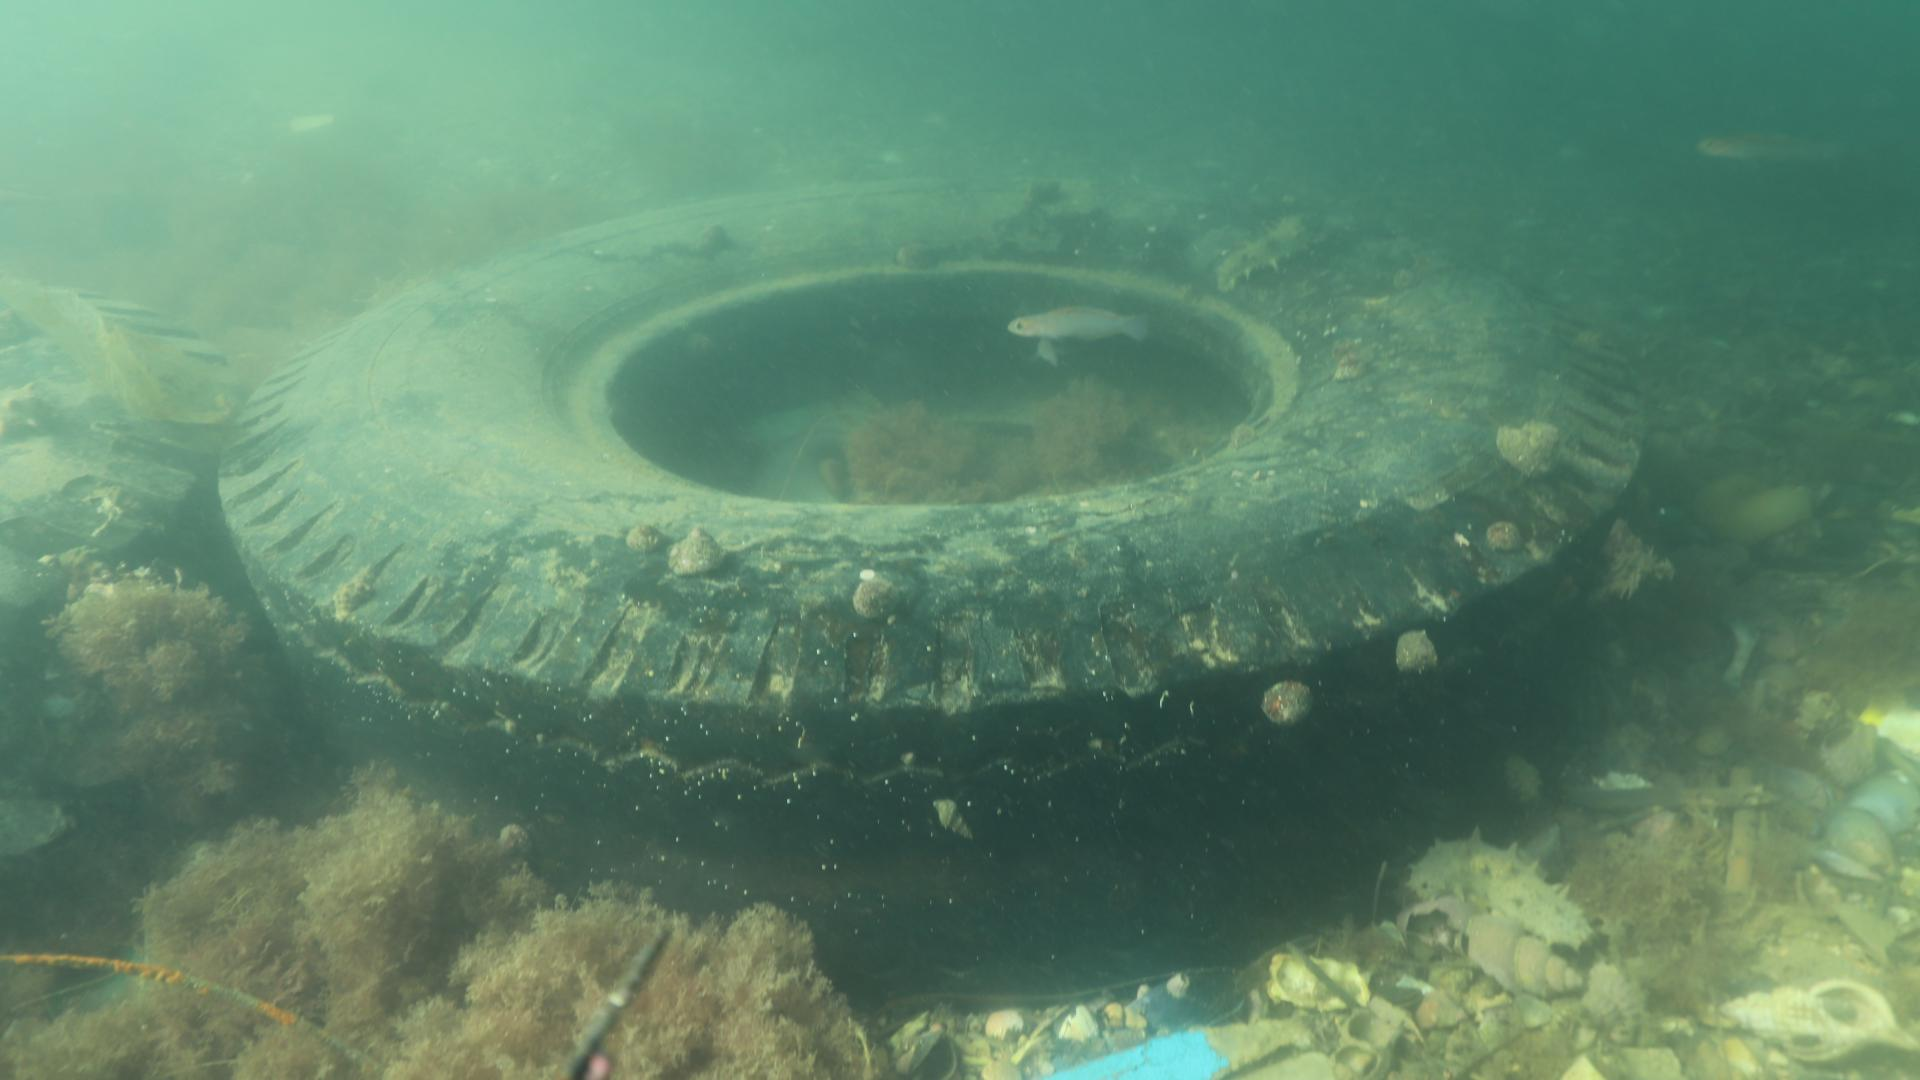tire: (215, 173, 1654, 1013)
